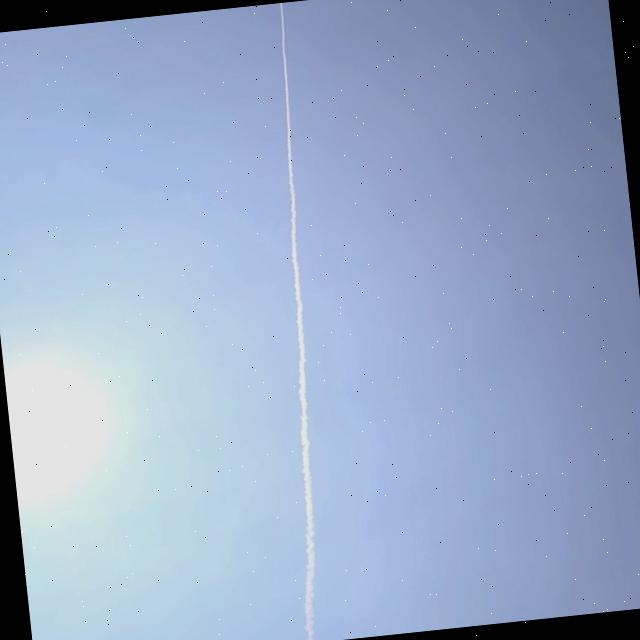smoke_trail_no_rocket: (278, 2, 314, 640)
